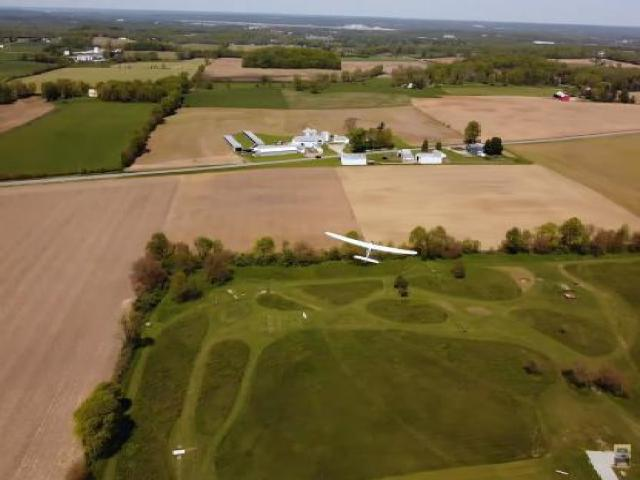uav: (318, 225, 422, 282)
